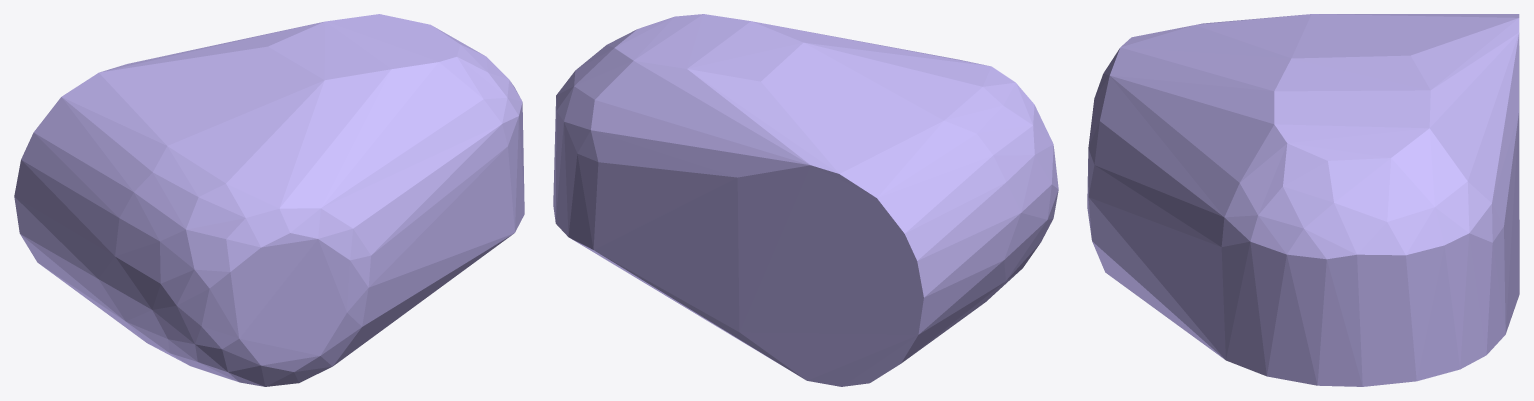
File: dualpanda_Panda_rightArm_link6_respondable_coll_1.dae
The picture shows the model from 3 angles, left to right: view 1: azimuth 30°, elevation 25°; view 2: azimuth 150°, elevation 25°; view 3: azimuth 270°, elevation 25°; orthographic projection. The views are drawn at different scales.
Visible parts, largest first — view 1: node; view 2: node; view 3: node.
Boxes of the visible parts, left/top/right/bottom form: node: left=14, top=14, right=524, bottom=386; node: left=553, top=14, right=1058, bottom=386; node: left=1087, top=14, right=1519, bottom=386.
Size of the model in its own units: 0.1802 by 0.1003 by 0.1331.
